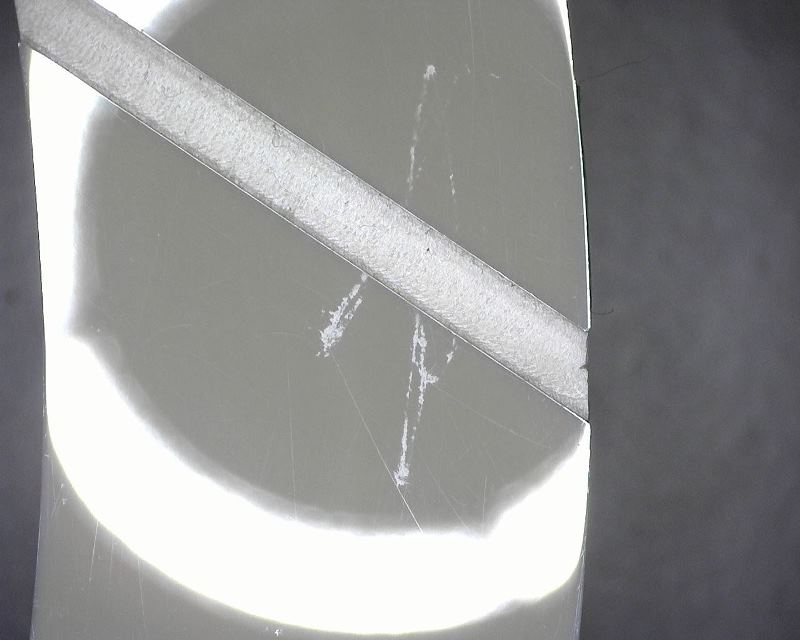scratch: (393, 311, 441, 486), (308, 261, 373, 360), (405, 52, 436, 192), (281, 341, 301, 514), (447, 333, 460, 362), (446, 167, 458, 198), (463, 59, 474, 77), (489, 68, 502, 83)
